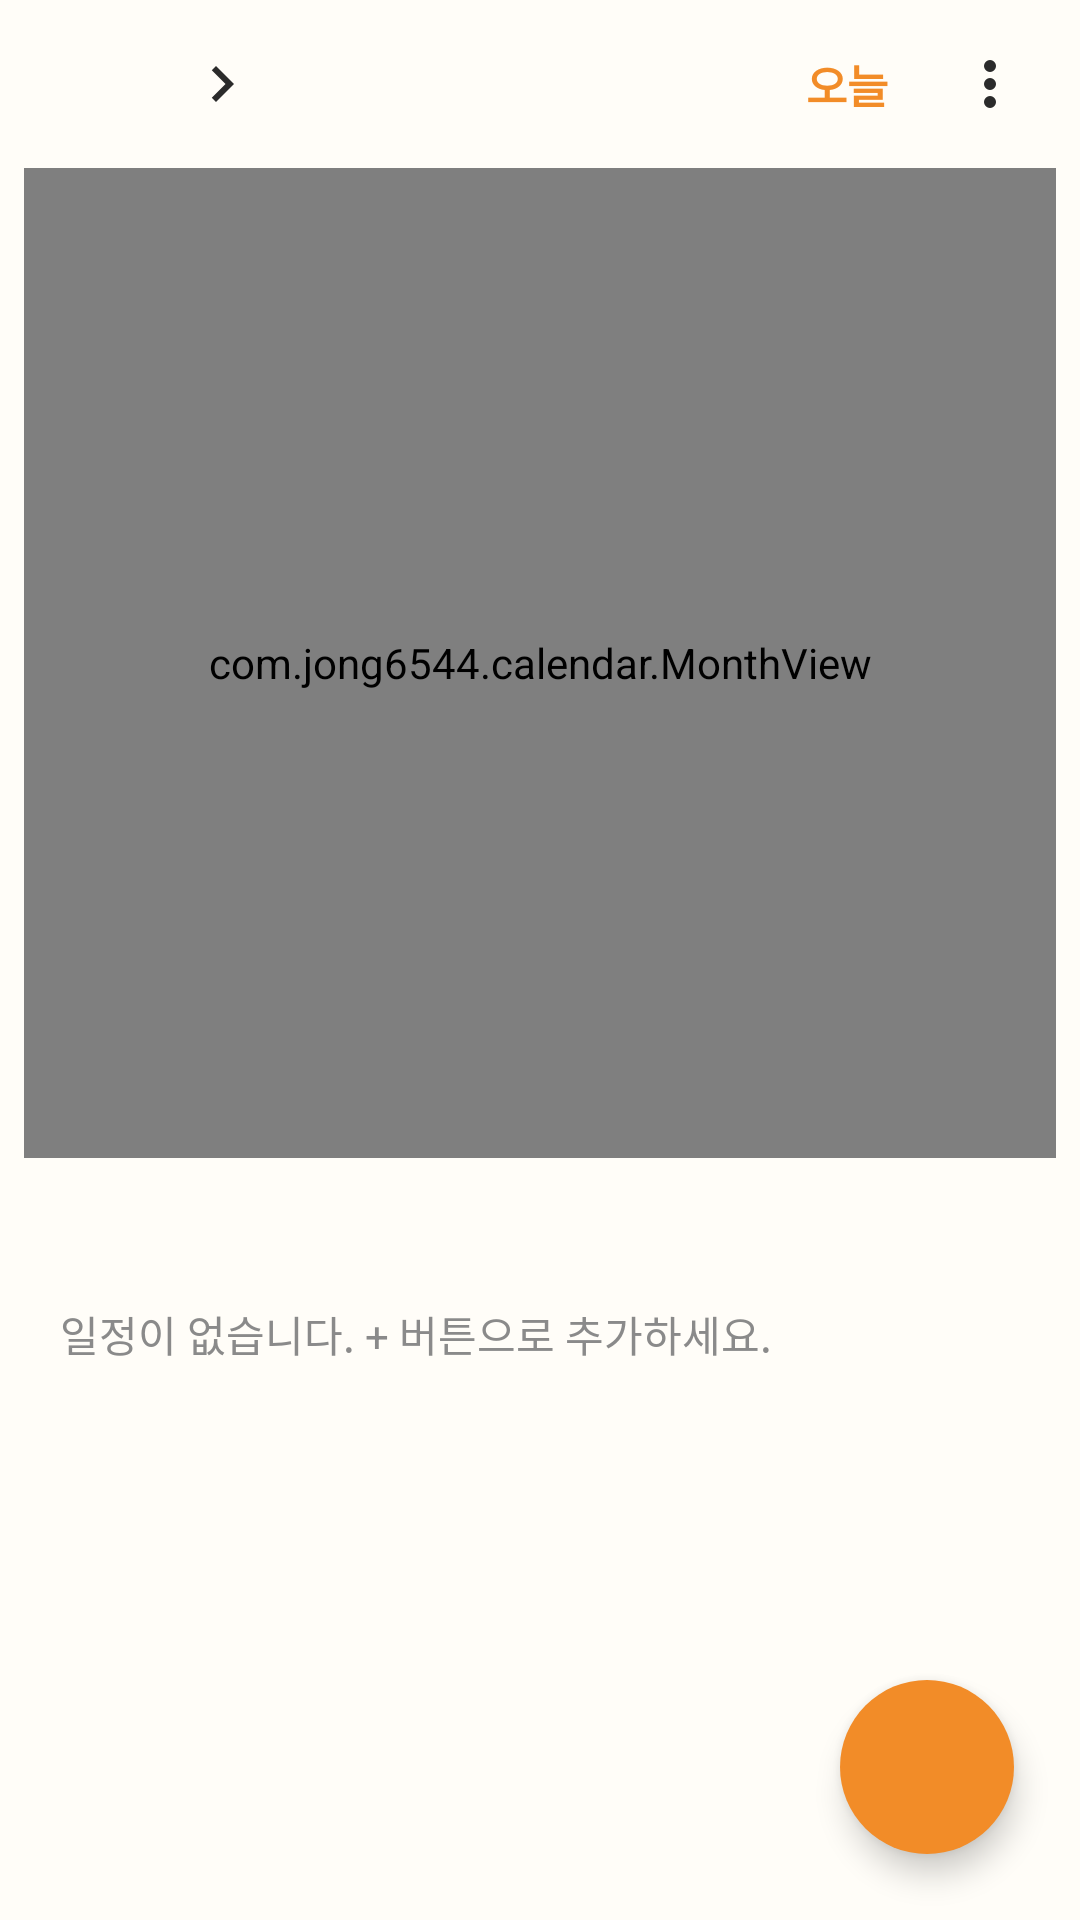

Icons on this 1080x1920 Android screen, each with its box as [x1=x1, y1=y1, x2=x2, y2=y2]:
다음 달: [x1=212, y1=66, x2=234, y2=102]
더보기: [x1=984, y1=60, x2=996, y2=108]
